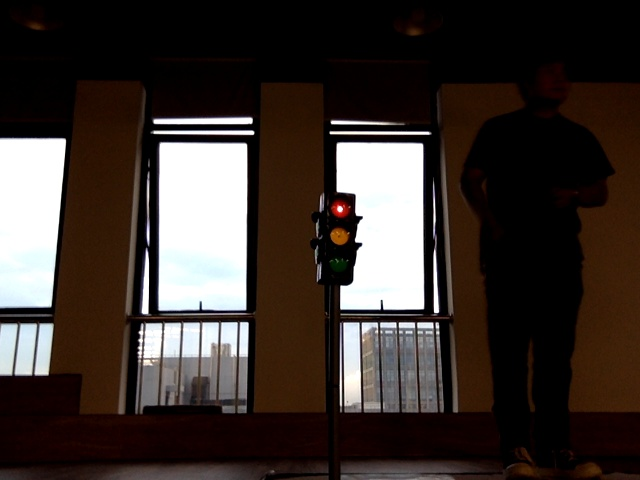red: (322, 195, 350, 280)
